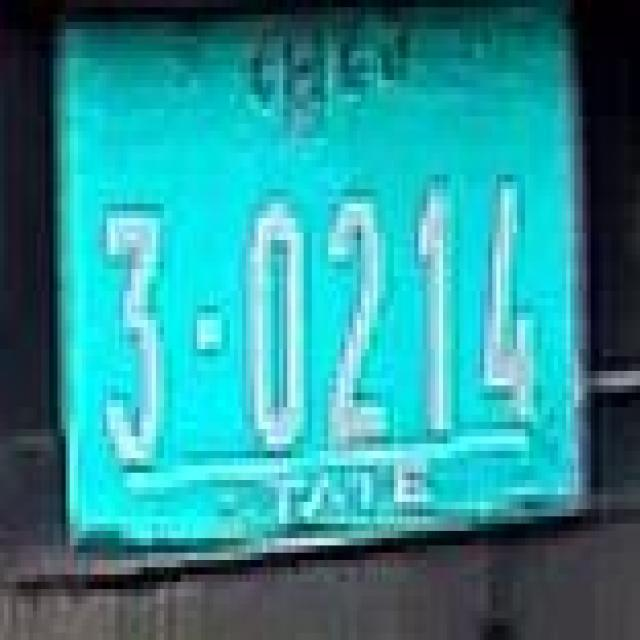State: (251, 22, 345, 159)
